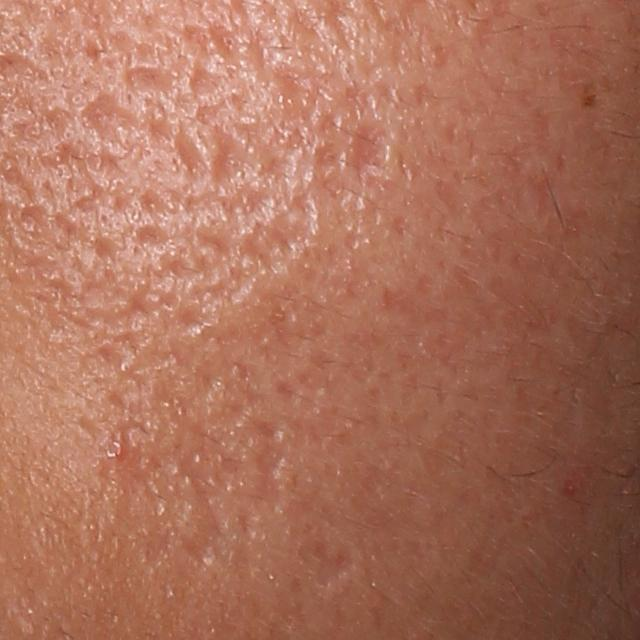atrophic_scar: (177, 456, 231, 577), (78, 87, 149, 154), (209, 122, 265, 197), (345, 118, 393, 195), (300, 534, 356, 597), (254, 426, 291, 514), (173, 120, 212, 179), (121, 63, 179, 96), (189, 59, 228, 100), (136, 226, 172, 252)
